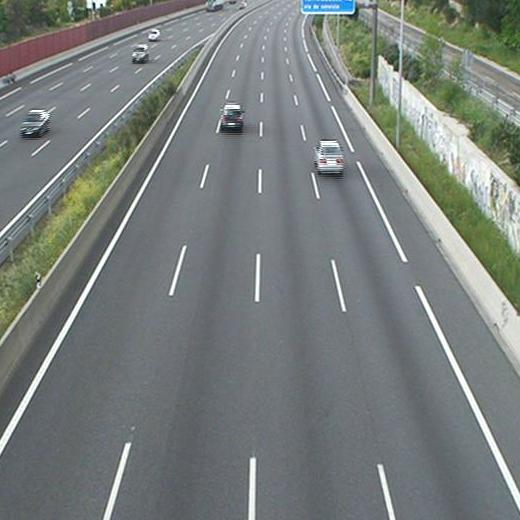car: (313, 140, 344, 176), (220, 104, 245, 134)
